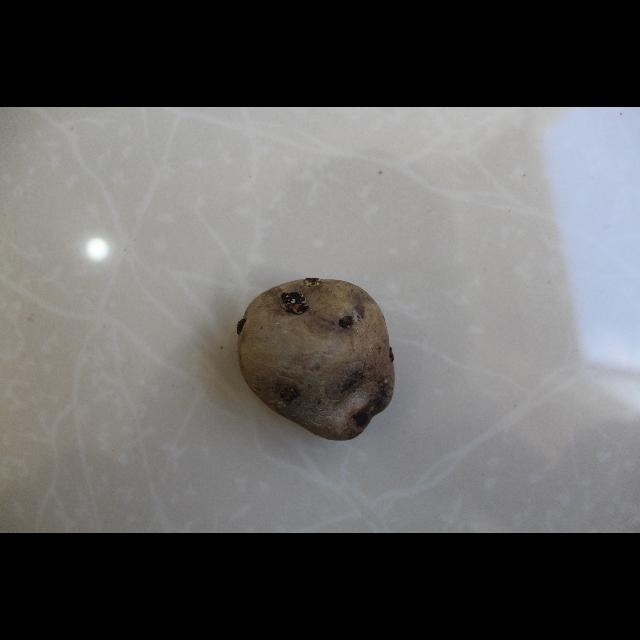Diseased-fungal potato: (240, 198, 406, 364)
